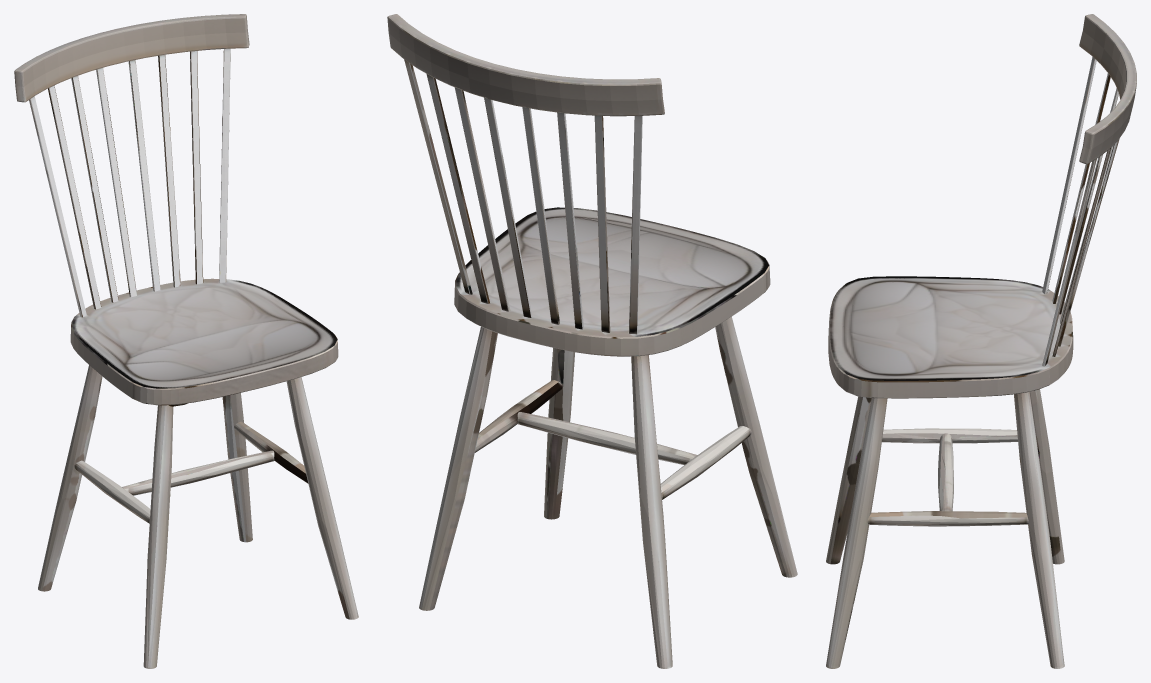
File: edited_mesh.glb
3 views of the same model, side by side, from view 1: azimuth 30°, elevation 25°; view 2: azimuth 150°, elevation 25°; view 3: azimuth 270°, elevation 25° (orthographic). The views are drawn at different scales.
Visible parts, largest first — view 1: normalized_model.obj; view 2: normalized_model.obj; view 3: normalized_model.obj.
Boxes of the visible parts, x1,y1,x2,y2 form: normalized_model.obj: (14, 14, 358, 668); normalized_model.obj: (387, 14, 797, 668); normalized_model.obj: (826, 14, 1136, 668).
Bounding box in the file's own units: 0.7566 × 1.59 × 0.8261.
Materials: 1 (1 with a texture image).
